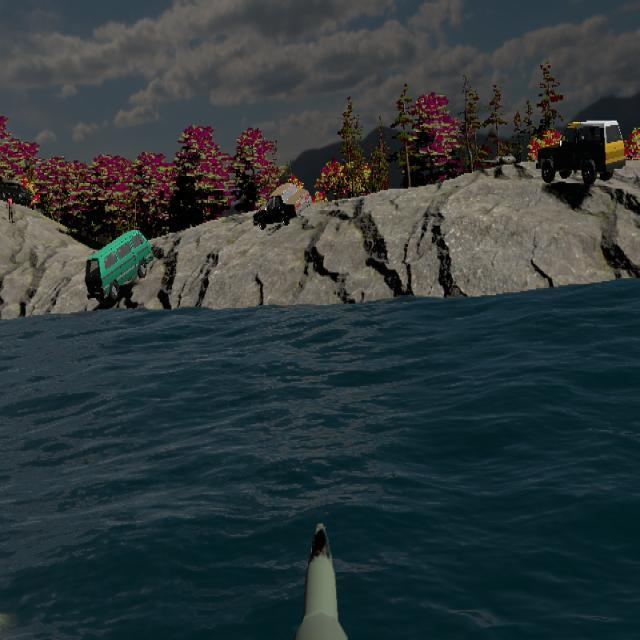car: (536, 119, 625, 187), (85, 229, 153, 308)
